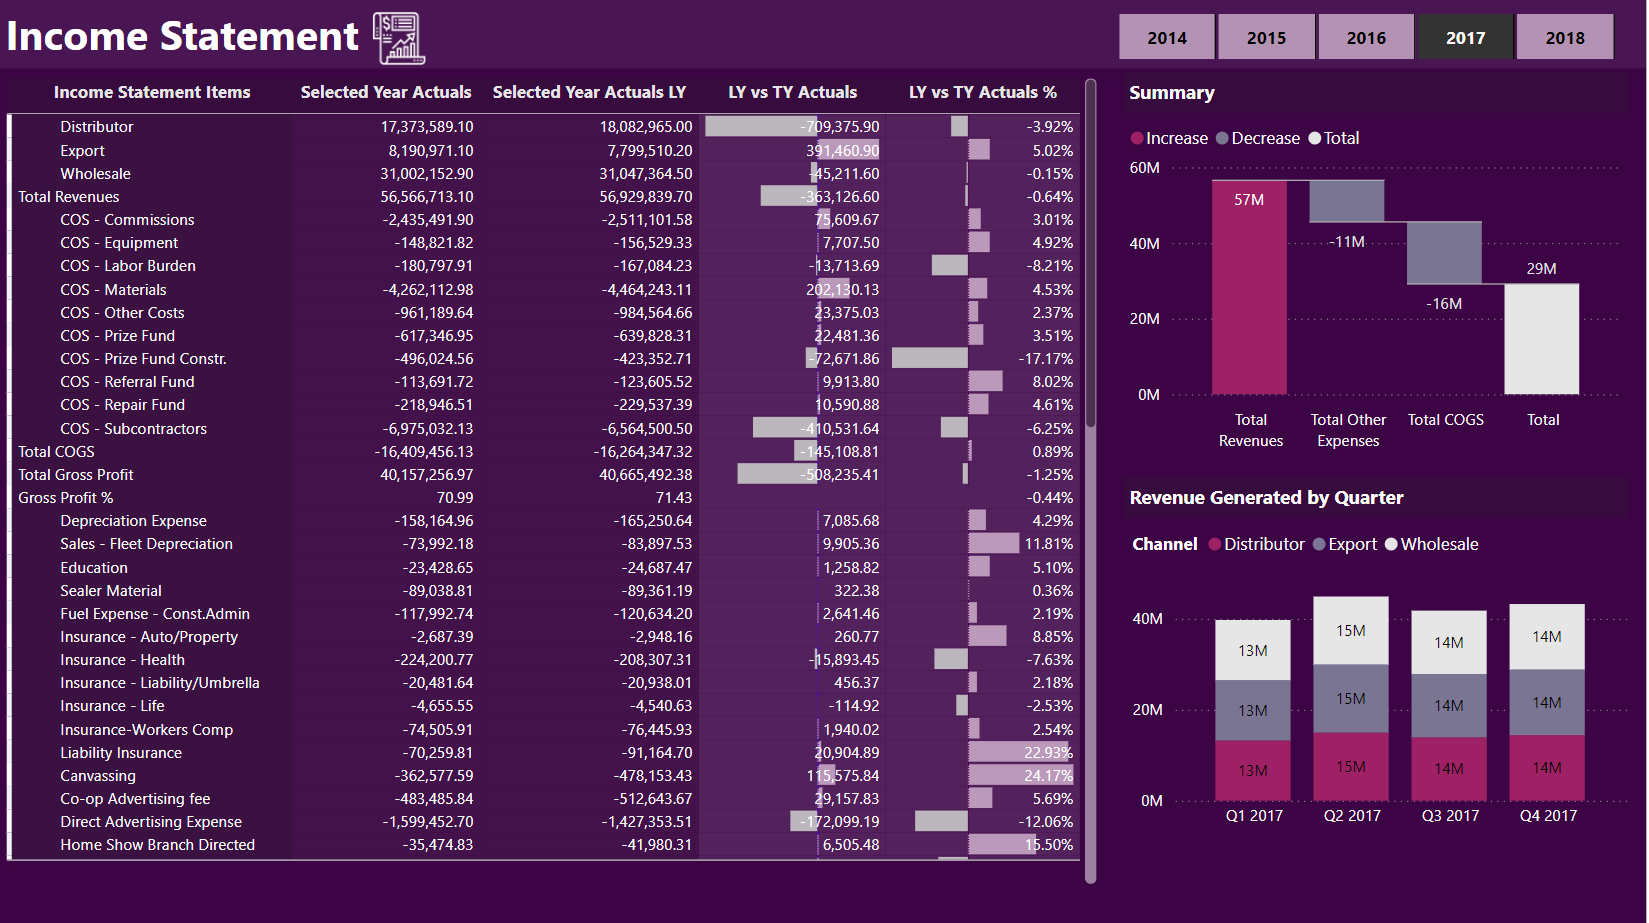

The dashboard page shown, as its layout file describes it:
{"tool":"powerbi","page":{"name":"Income Statement","canvas":[1280,720],"ordinal":1},"visuals":[{"type":"textbox","box":[0,0,1280,53.5],"z":0},{"type":"textbox","box":[873.9,56.5,392.4,31.5],"z":1000},{"type":"slicer","fields":{"Values":["Dates.Year"]},"box":[844.6,4.3,434.8,48.9],"z":2000},{"type":"tableEx","fields":{"Values":["IS Template.Row Index","IS Template.Income Statement Items","IS Measures.IS Selected Year Actuals","IS Measures.IS Selected Year Actuals LY","IS Measures.LY vs TY Actuals","IS Measures.LY vs TY Actuals %"]},"box":[0,56.5,857.6,635.9],"z":3000},{"type":"waterfallChart","title":"Total Assets","fields":{"Y":["IS Measures.IS Selected Year Actuals"],"Category":["IS Template.Items (Normalized)"]},"box":[873.9,88,392.4,283.7],"z":4000},{"type":"columnChart","title":"Total Assets","fields":{"Category":["Dates.QuarterInCalendar"],"Y":["IS Measures.Total Revenue"],"Series":["Channel Revenues.Channel"]},"box":[876.1,403.3,394.6,263],"z":5000},{"type":"image","box":[265.2,4.3,92.4,52.2],"z":6000},{"type":"textbox","box":[873.9,371.7,392.4,31.5],"z":7000}]}

Visuals, with their boxes in screenshot pixels (x1, y1, x2, y2), scaled from the page's 1280x720 canvas onto the 1649x923 screenshot:
textbox: box=[0, 0, 1648, 69]
textbox: box=[1126, 72, 1631, 113]
slicer - Dates.Year: box=[1088, 6, 1648, 68]
tableEx - IS Template.Row Index x IS Template.Income Statement Items: box=[0, 72, 1105, 888]
"Total Assets" waterfallChart: box=[1126, 113, 1631, 476]
"Total Assets" columnChart: box=[1129, 517, 1637, 854]
image: box=[342, 6, 461, 72]
textbox: box=[1126, 476, 1631, 517]
